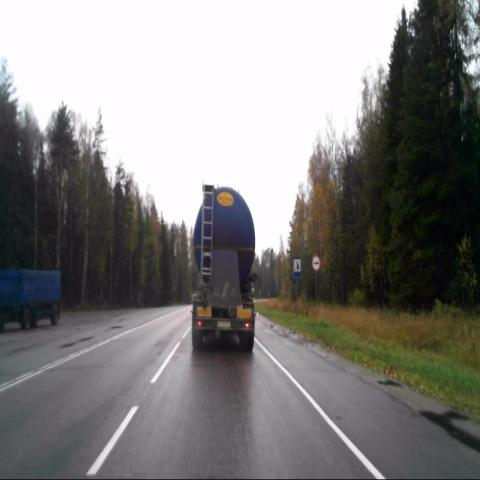7_11: (292, 257, 302, 281)
